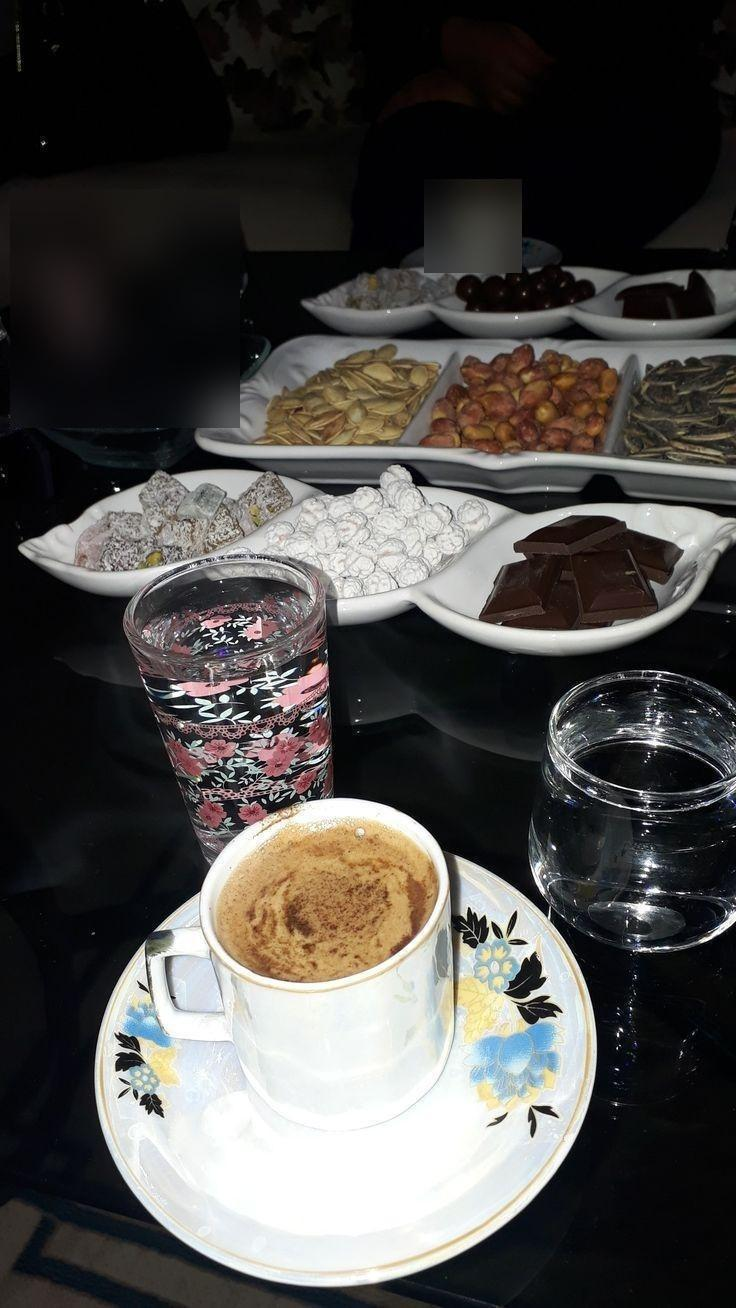cup-handle: (143, 796, 460, 1133)
glass-normal: (525, 666, 735, 1096), (123, 550, 335, 858)
